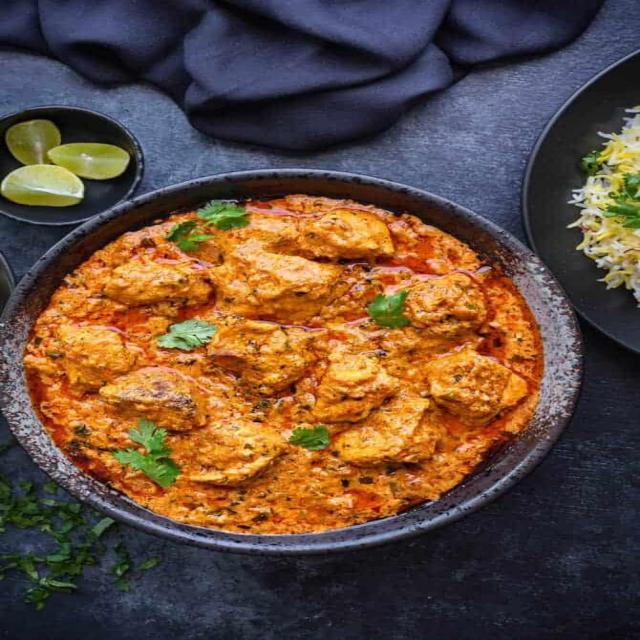chicken: (29, 208, 566, 538)
rice: (568, 120, 640, 302)
